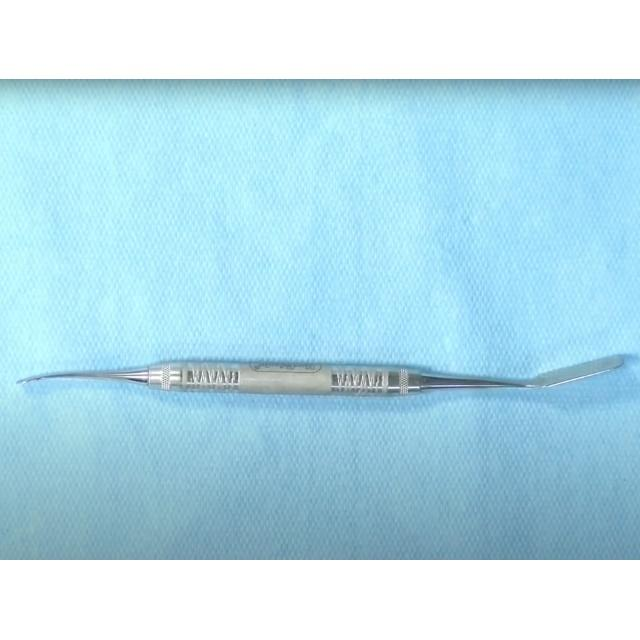elevador: (21, 355, 639, 399)
